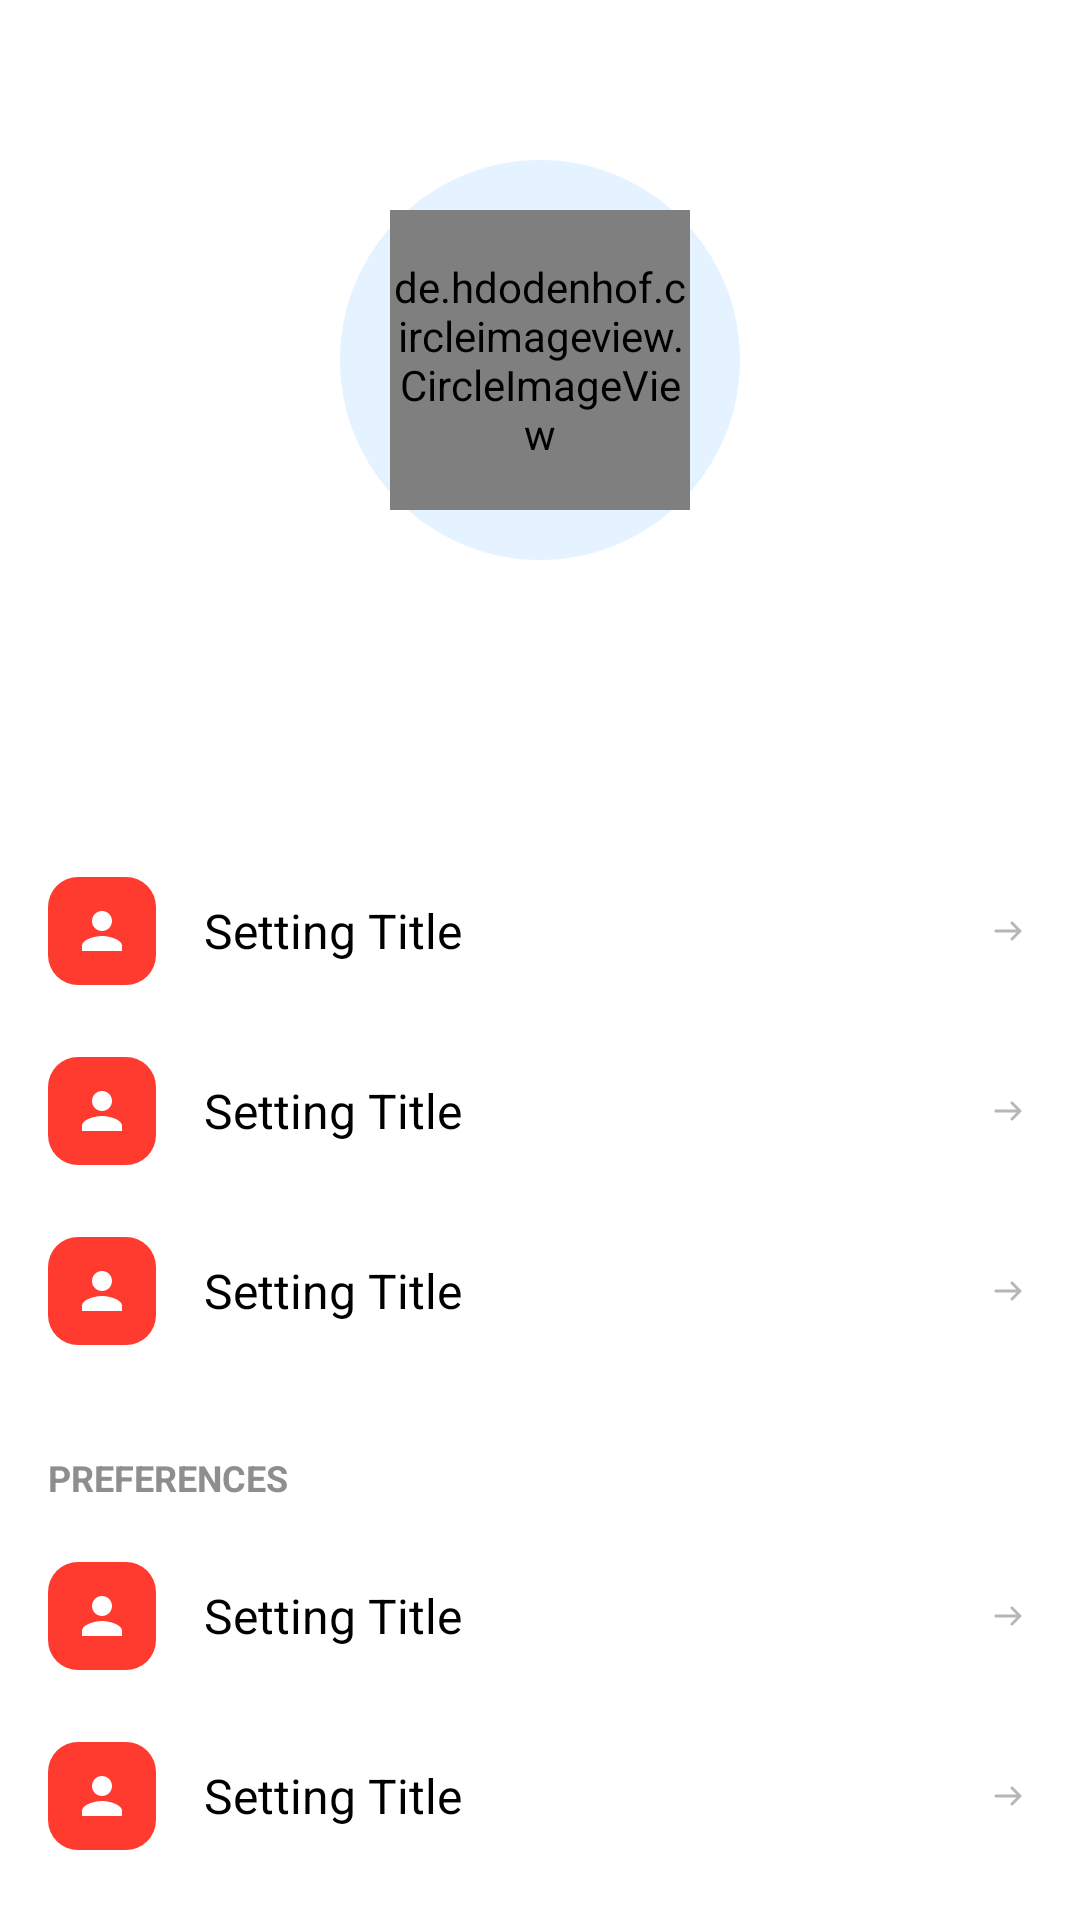

Icons on this 1080px×1920px Android screen, each with its box as (x1, y1, x2, y2):
person: (48, 877, 156, 985), (48, 1057, 156, 1165), (48, 1237, 156, 1345), (48, 1562, 156, 1670), (48, 1742, 156, 1850)
